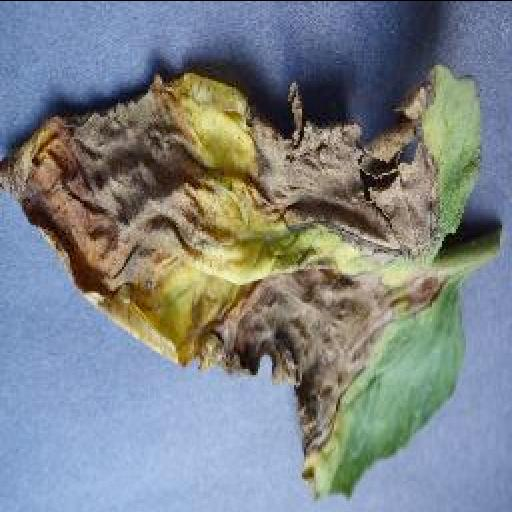disease_tomato: (0, 59, 482, 501)
